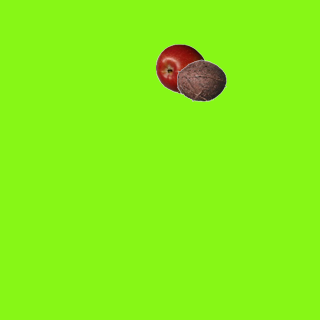Apple Braeburn: (155, 43, 205, 93)
Cocos: (176, 55, 226, 105)
